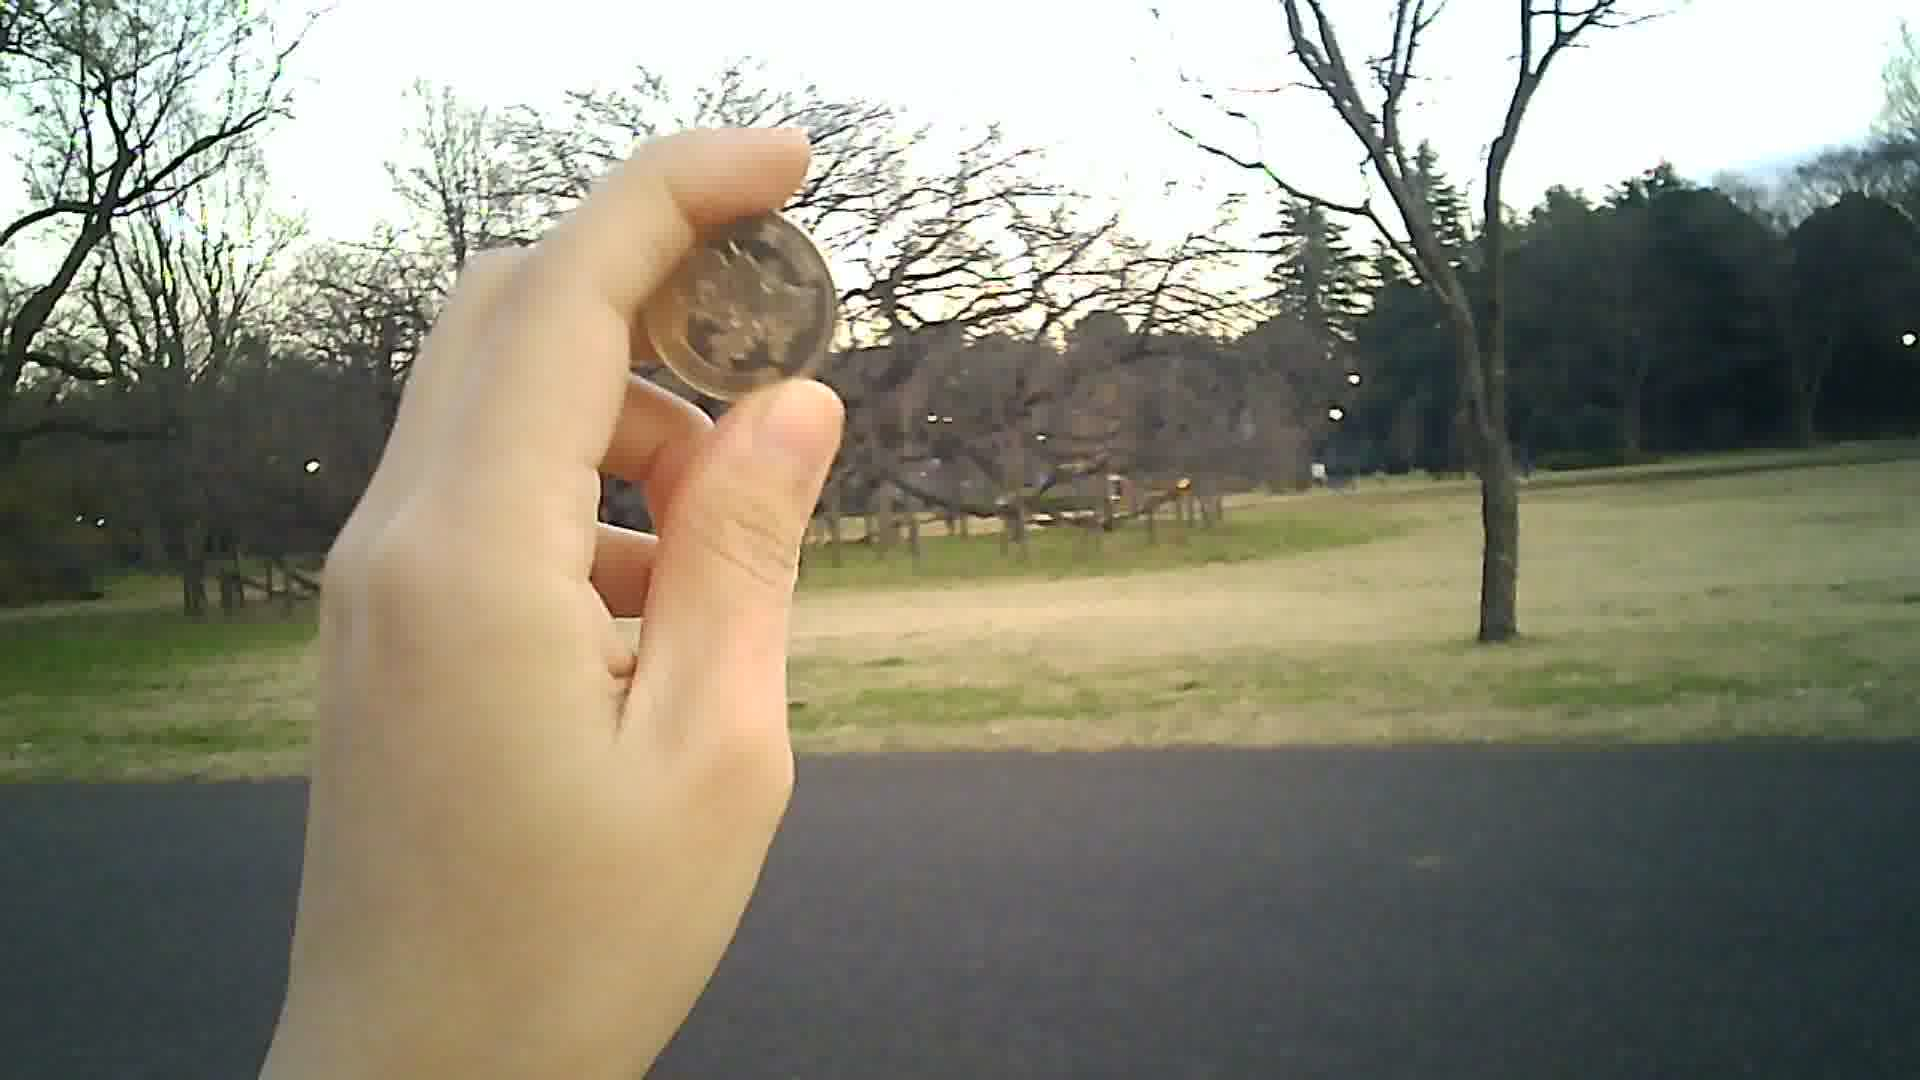500 Yen: (644, 208, 843, 406)
